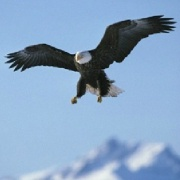bird: (2, 10, 177, 109)
